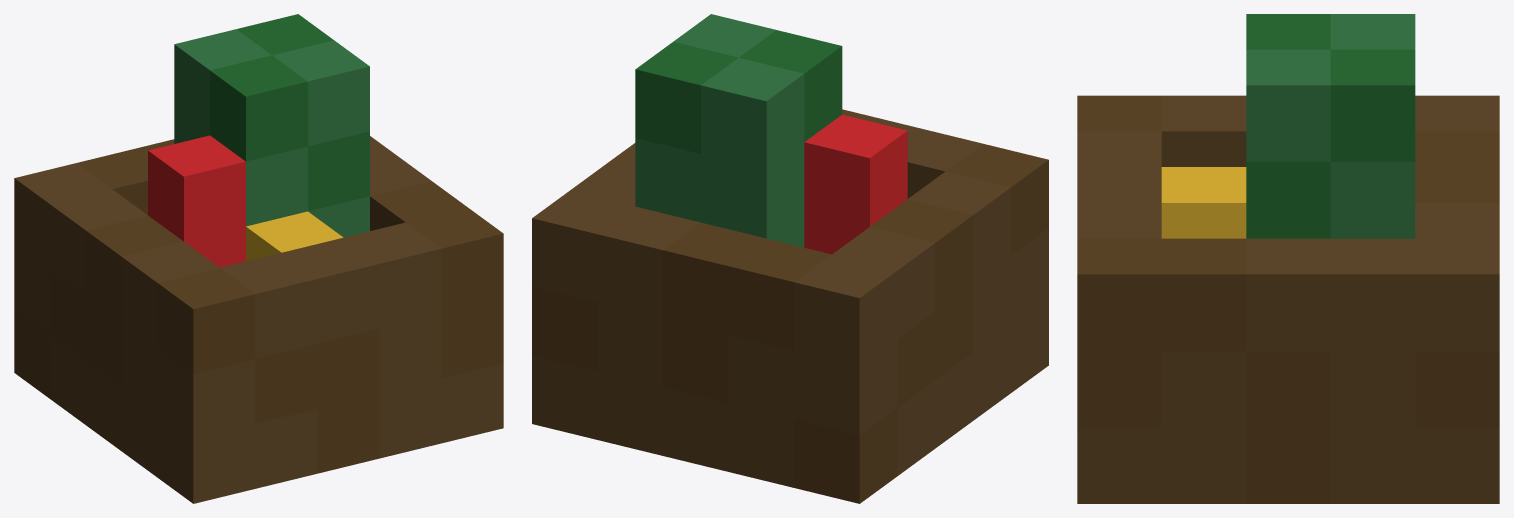
The model's file is Pot.obj.
3 views of the same model, side by side, from view 1: azimuth 30°, elevation 25°; view 2: azimuth 150°, elevation 25°; view 3: azimuth 270°, elevation 25° (orthographic). The views are drawn at different scales.
Size of the model in its own units: 0.5 by 0.5 by 0.5.
Materials: 1 (1 with a texture image).
